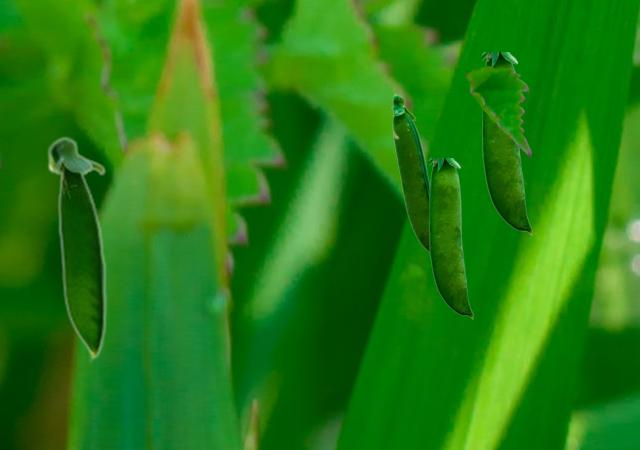pea: (46, 135, 106, 362), (482, 52, 531, 234), (429, 158, 472, 318), (391, 93, 429, 252)
